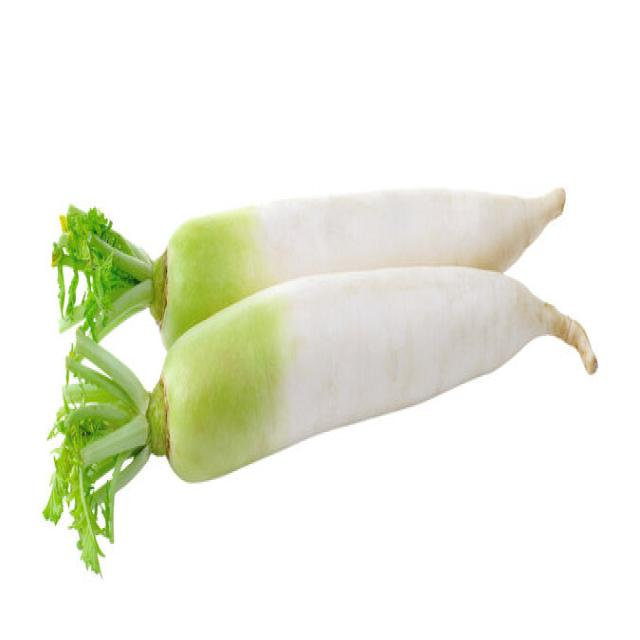Radish: (43, 182, 598, 572), (146, 262, 597, 484), (52, 182, 567, 350)
